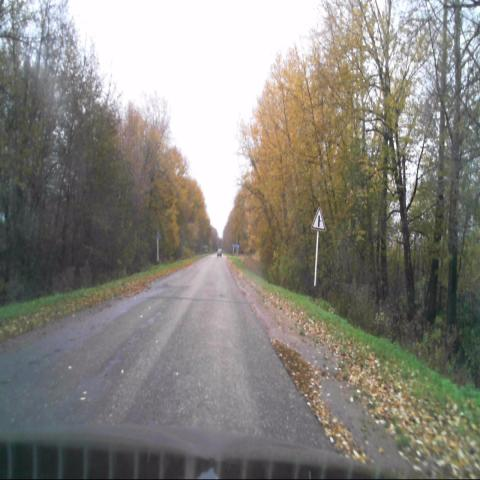2_3_2: (312, 206, 326, 231)
